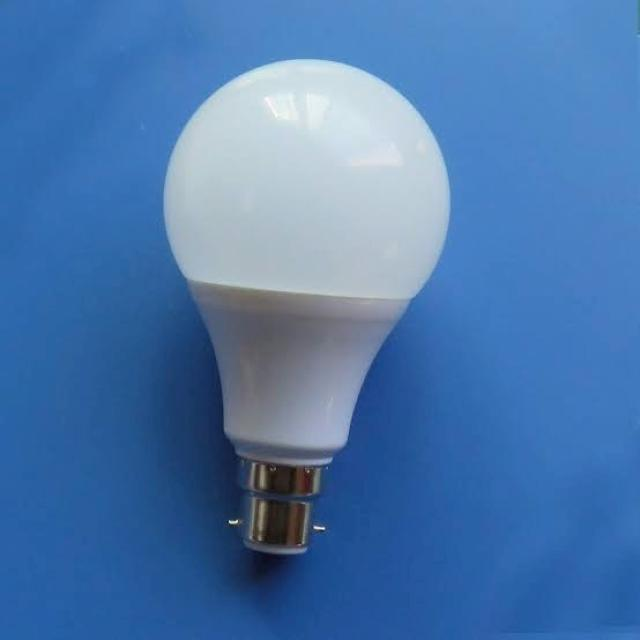bulb: (163, 46, 450, 553)
